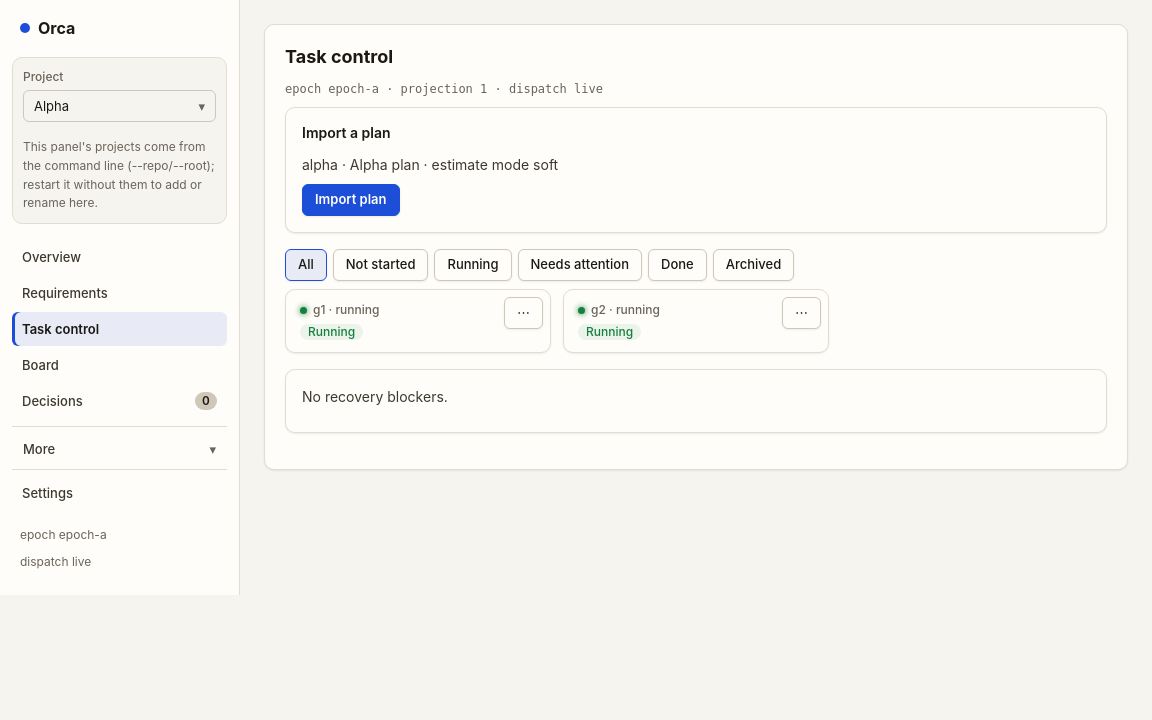
Test: an import's refusal stays in the import form (spec §2.2(d)) › remembers an import whose answer was lost as an import, so its lookup's answer replaces the notice in the import form
The width and height of the screenshot is (1152, 720).
Click the button "Import plan" at (351, 200), box [302,184,400,216]
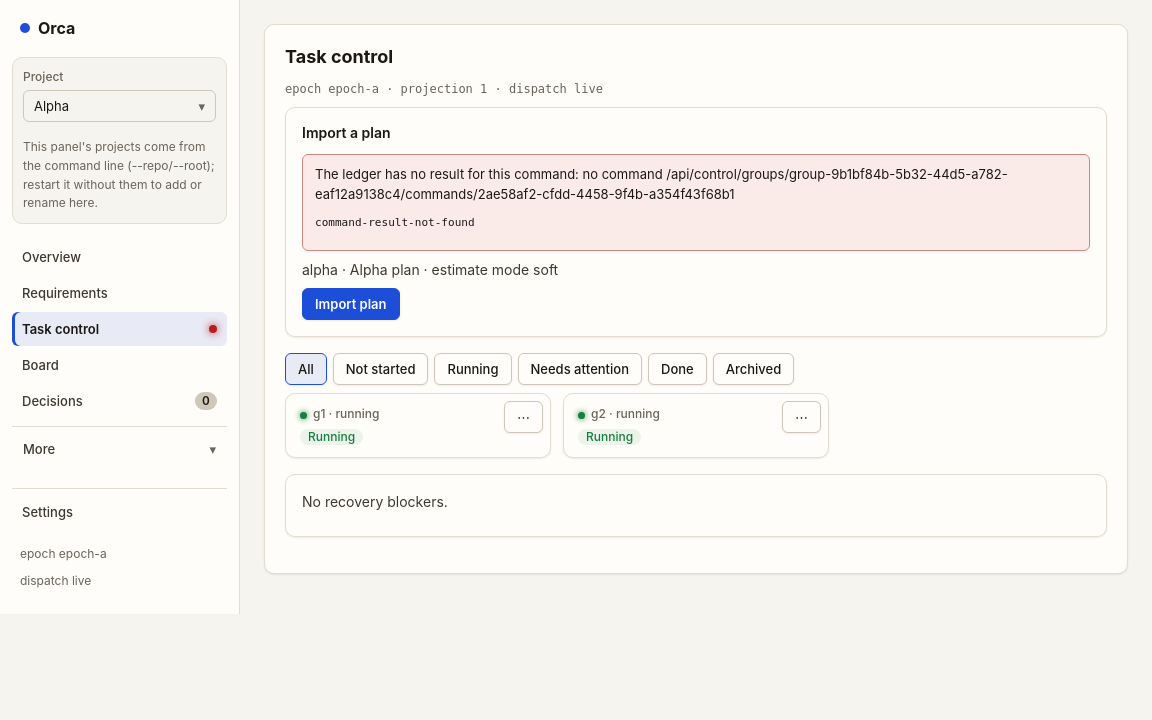
Check: the message with test id "import-refusal" is shown, box [302,154,1090,251]
